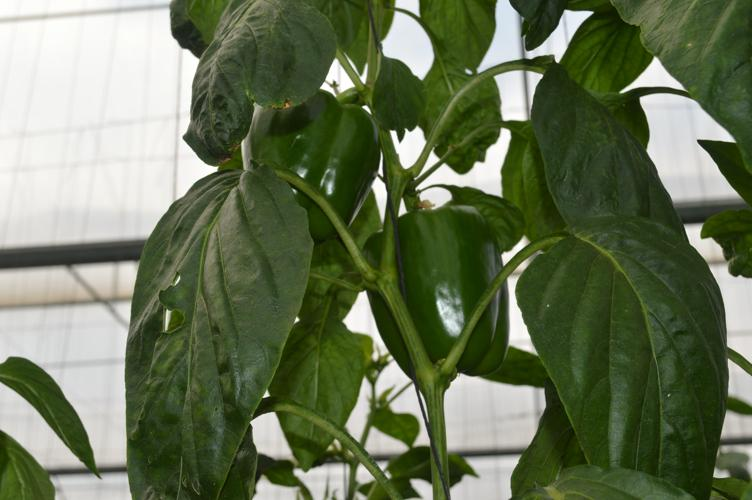BellPepper: (358, 206, 507, 372), (235, 94, 384, 244)
